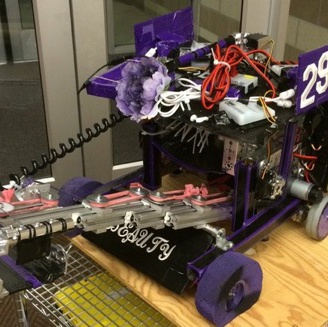robot: (2, 0, 328, 327)
